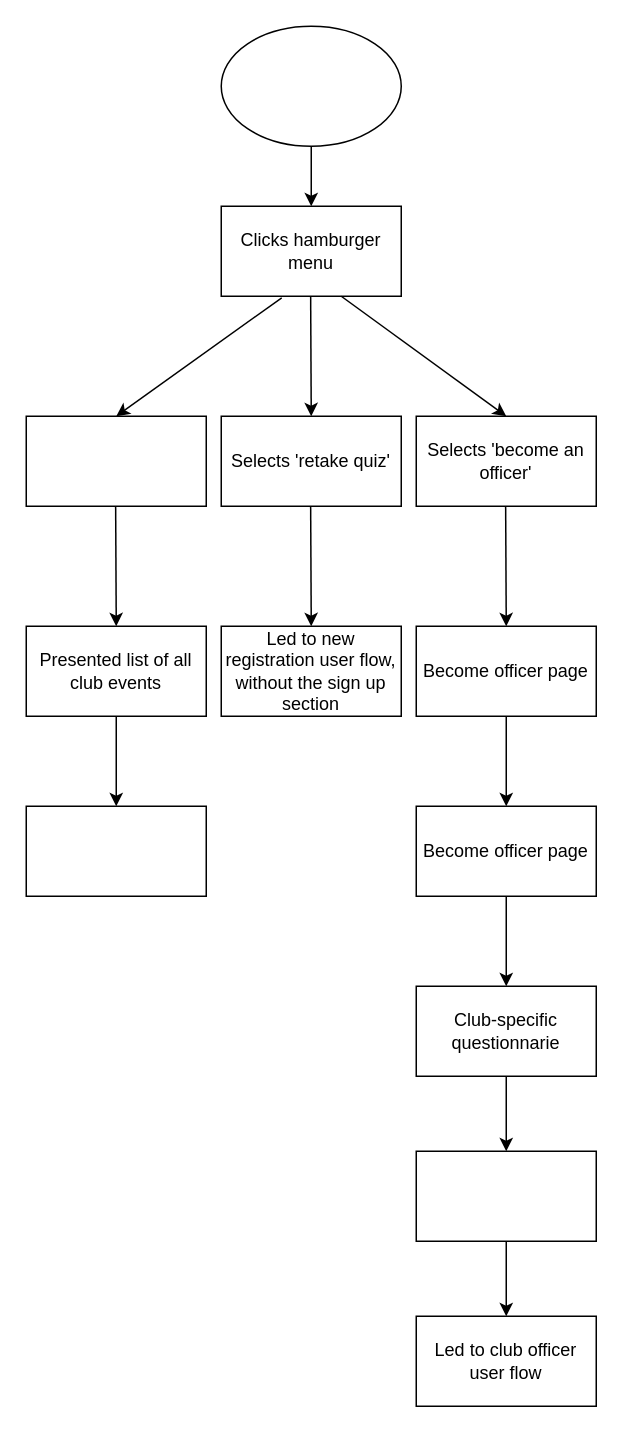
This 623x1433 diagram has some shape labels left out. Here are the shapes that lost their labels. From the top down, the centre of each, then its label:
the point at 310,85: Registered user on account hub
the point at 115,460: Selects 'see all upcoming events'
the point at 115,850: Able to select individual events
the point at 505,1195: Once complete, status changed to club officer.
